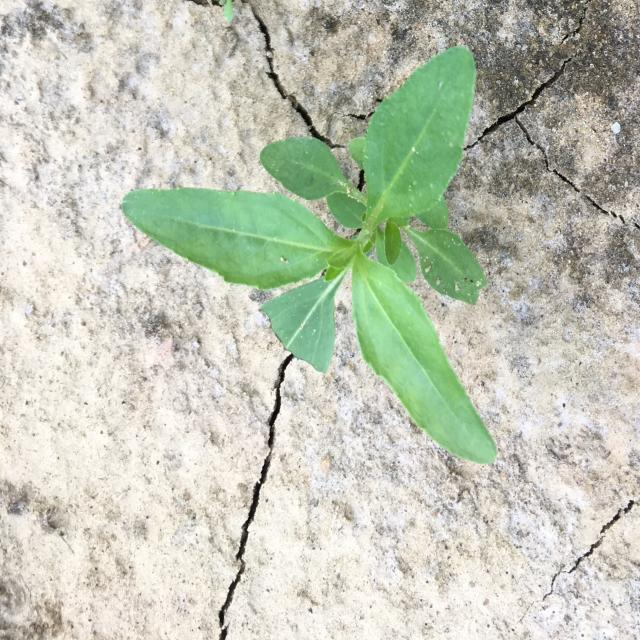Eclipta: (122, 45, 498, 465)
